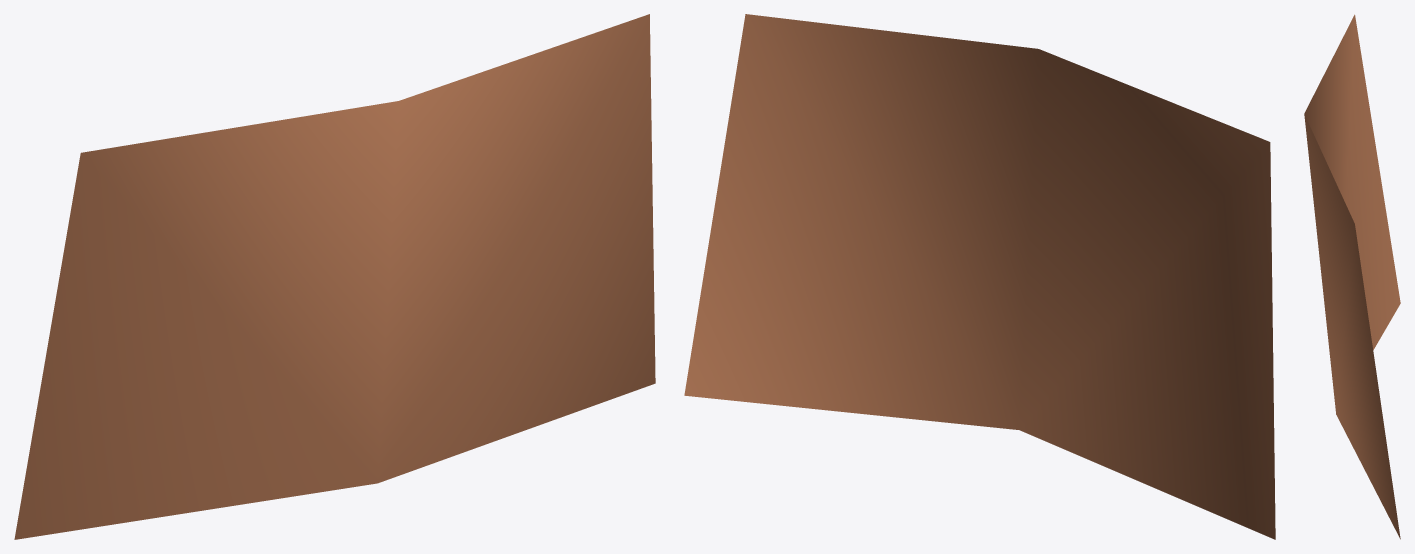
Rendered from Chaplin.fbx.
3 views of the same model, side by side, from view 1: azimuth 30°, elevation 25°; view 2: azimuth 150°, elevation 25°; view 3: azimuth 270°, elevation 25° (orthographic). The views are drawn at different scales.
Parts seen in each view (by area): view 1: 02 Beard - Chaplin; view 2: 02 Beard - Chaplin; view 3: 02 Beard - Chaplin.
Part boxes in pixels (<box>): 02 Beard - Chaplin: <box>14,14,655,539</box>; 02 Beard - Chaplin: <box>684,14,1275,539</box>; 02 Beard - Chaplin: <box>1304,14,1400,539</box>.
Size of the model in its own units: 0.0357 by 0.0217 by 0.00615.
